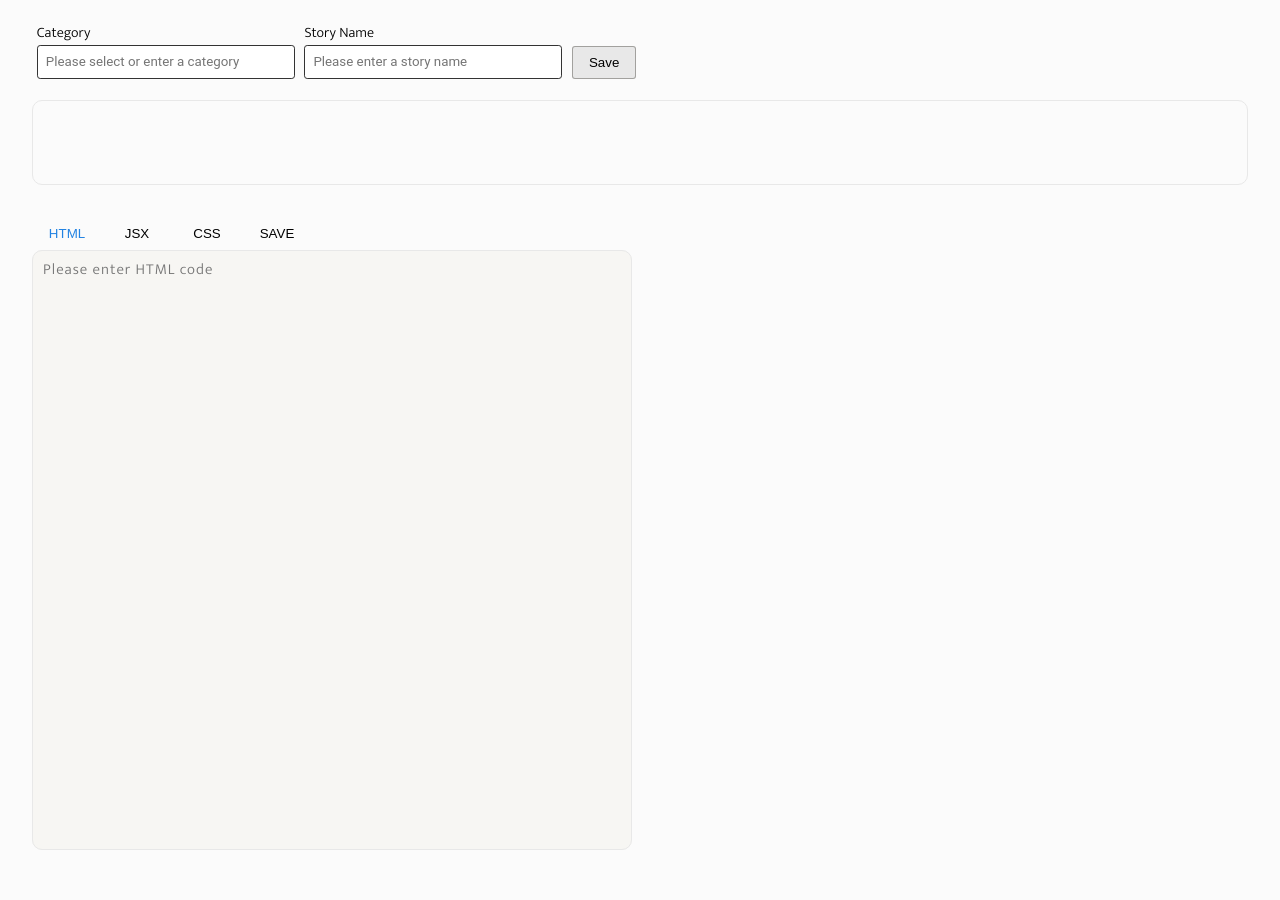
PreviewStory - click › should be visible error message, when the islogin state value is true and data is not completely entered.
Click the button "Save" at (604,62), box [572,46,636,79]
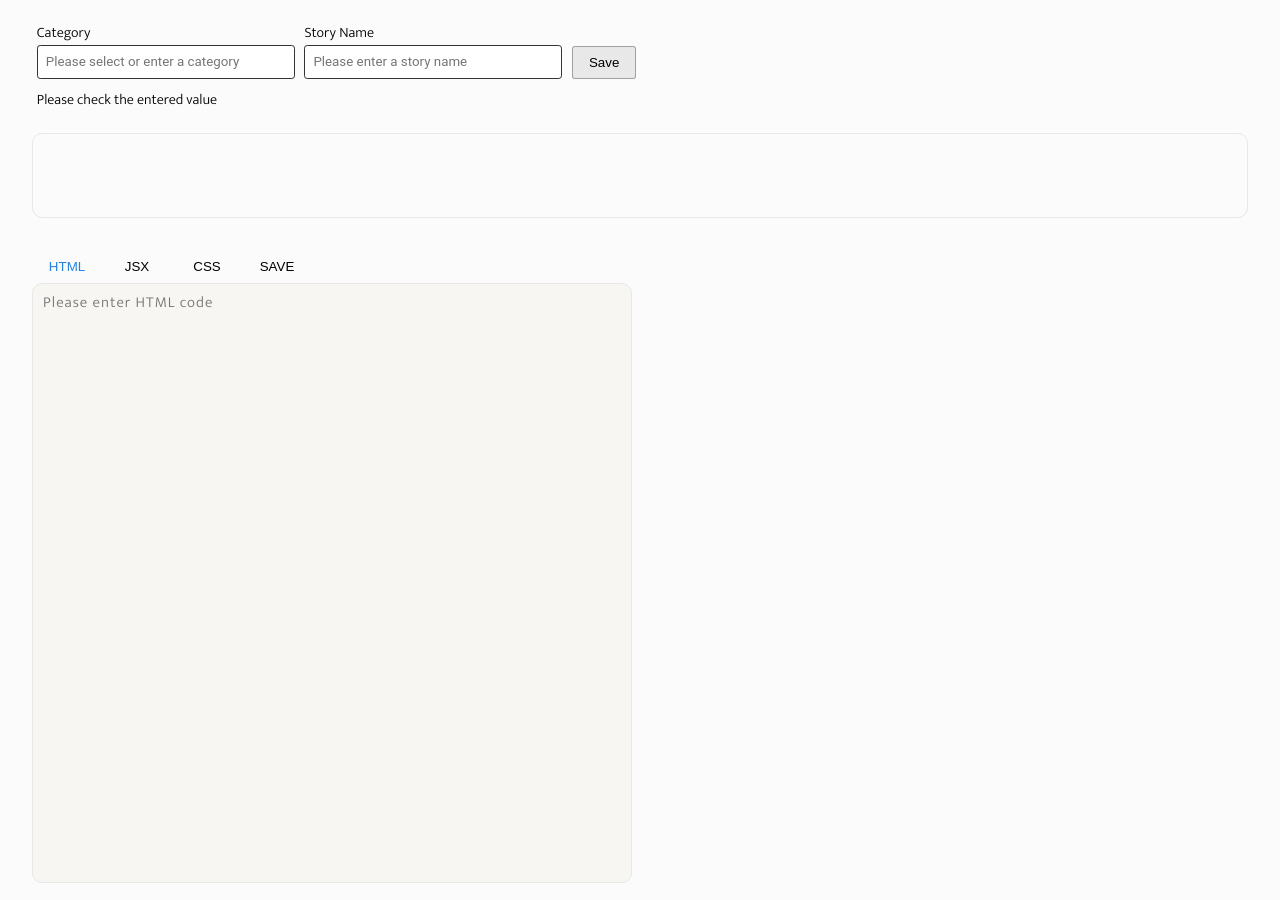
Expected: the text "Please check the entered value" is shown, [37,88,217,112]
